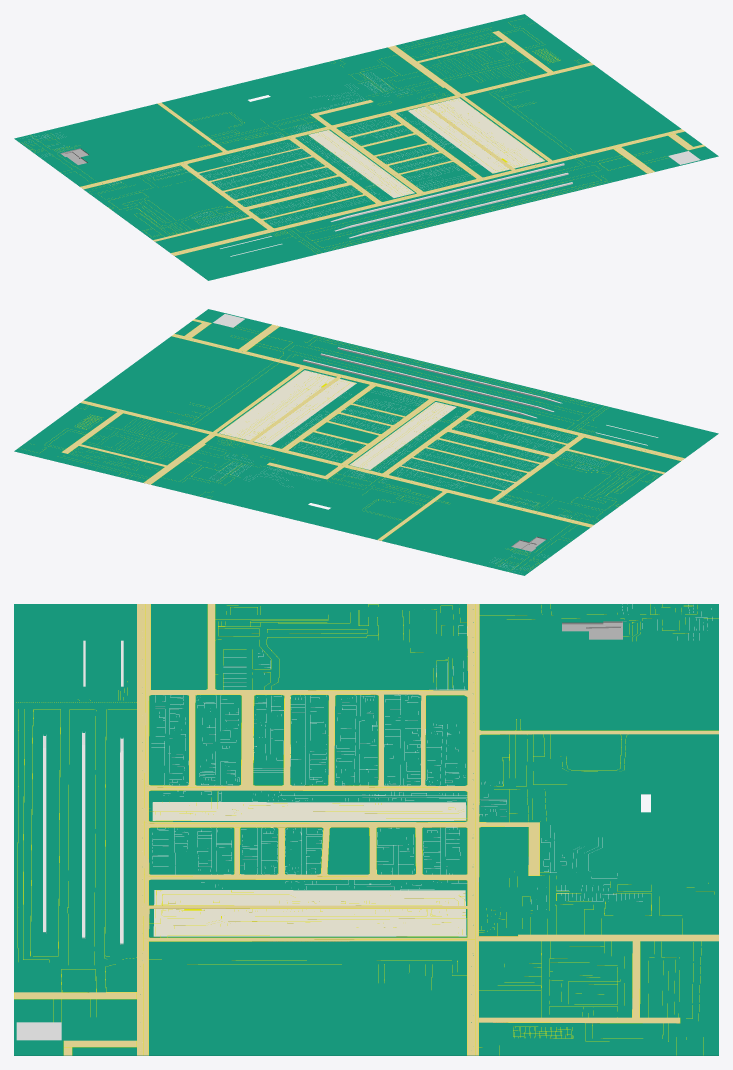
File: Plant4_Layout.fbx
The picture shows the model from 3 angles, top to bottom: view 1: azimuth 30°, elevation 25°; view 2: azimuth 150°, elevation 25°; view 3: azimuth 270°, elevation 25°; orthographic projection. The views are drawn at different scales.
Parts seen in each view (by area): view 1: Composite Part (×3), Default(41), Default(5) (×3); view 2: Composite Part (×3), Default(41), Default(5) (×3); view 3: Composite Part (×4), Default(41), Default(5) (×3), Default(39), Aisle_Path, Default(33).
Part boxes in pixels (x1=…): Composite Part (×3): x1=14, y1=14, x2=718, y2=280; Default(41): x1=309, y1=98, x2=544, y2=197; Default(5) (×3): x1=349, y1=163, x2=572, y2=233; Composite Part (×3): x1=14, y1=309, x2=718, y2=575; Default(41): x1=219, y1=370, x2=456, y2=469; Default(5) (×3): x1=303, y1=347, x2=543, y2=413; Composite Part (×4): x1=14, y1=604, x2=718, y2=1055; Default(41): x1=152, y1=802, x2=466, y2=936; Default(5) (×3): x1=43, y1=746, x2=123, y2=944; Default(39): x1=152, y1=827, x2=460, y2=874; Aisle_Path: x1=562, y1=621, x2=622, y2=639; Default(33): x1=16, y1=1022, x2=61, y2=1040.
Bounding box in the file's own units: 26534 × 17503 × 158.
